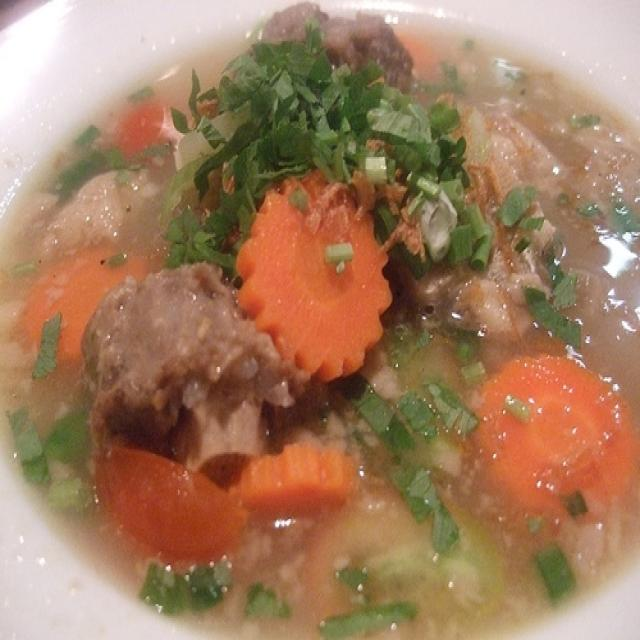汤锅炖物: (26, 31, 626, 614)
